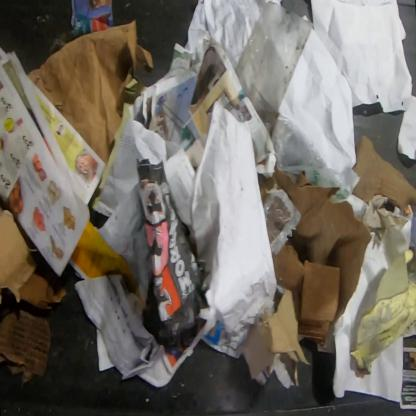cardboard: (258, 166, 374, 346), (27, 18, 155, 166), (242, 288, 311, 390), (352, 134, 416, 217), (15, 218, 67, 311), (0, 306, 52, 390), (0, 208, 38, 306), (126, 76, 144, 106)
soft_plastic: (234, 0, 314, 139), (271, 113, 361, 203), (263, 188, 302, 257)
